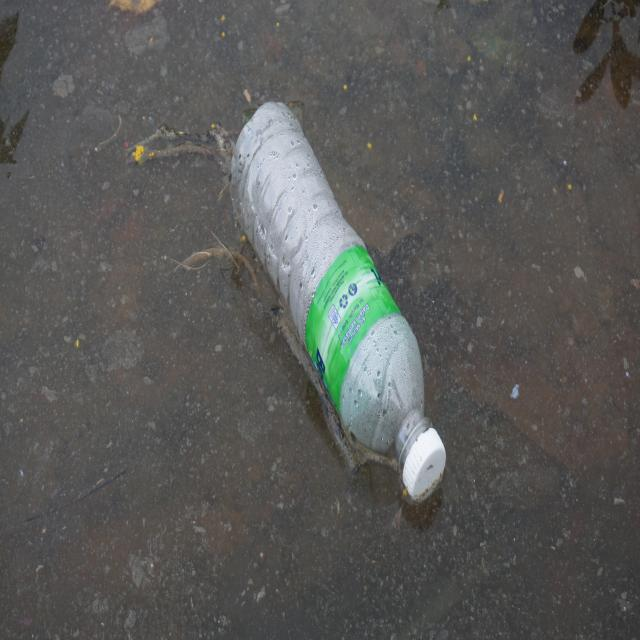Botol Plastik: (229, 92, 461, 513)
